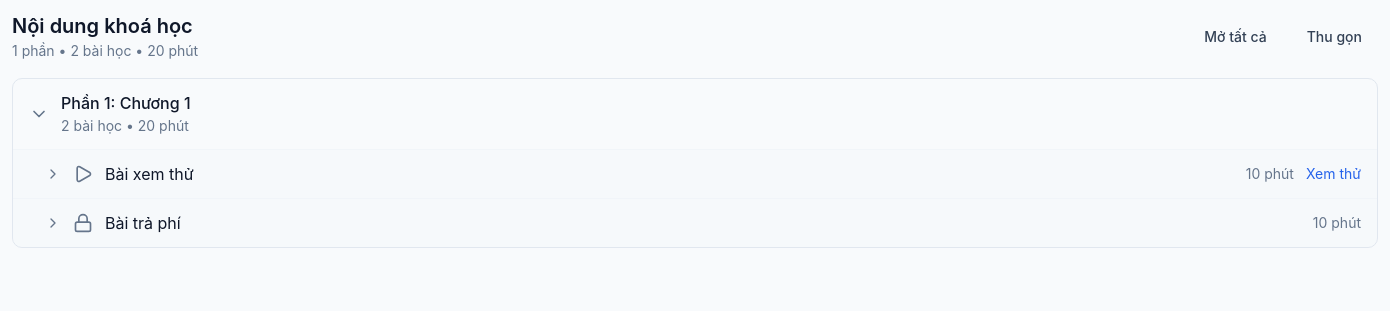
CourseSyllabus — khách xem thử › endpoint xem thử lỗi (404/mạng): báo không tải được, không nói 'Chưa có nội dung'
The width and height of the screenshot is (1390, 311).
Click the text "Bài xem thử" at (149, 174), box [105,164,194,184]
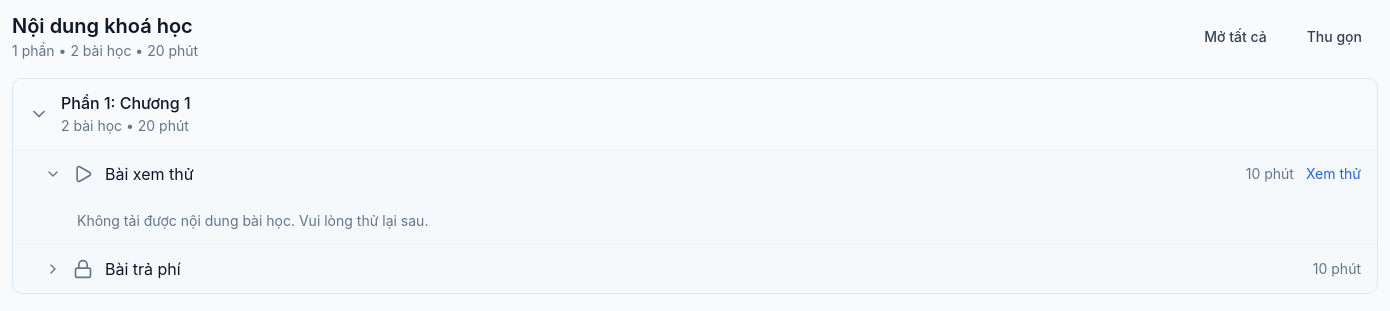
expect the message shows "Không tải được": met, box [77,212,428,229]
